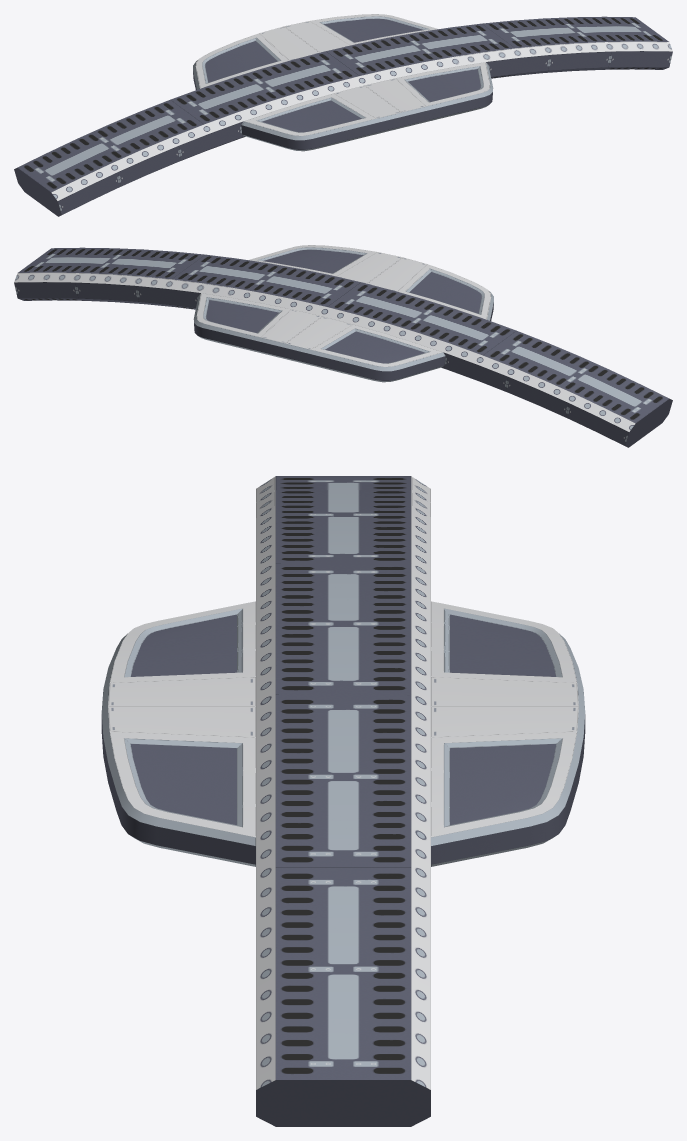
File: Stargate_Part_B.FBX
3 renders of one model, top to bottom at view 1: azimuth 30°, elevation 25°; view 2: azimuth 150°, elevation 25°; view 3: azimuth 270°, elevation 25°, orthographic. The views are drawn at different scales.
Parts seen in each view (by area): view 1: Stargate_Part_B; view 2: Stargate_Part_B; view 3: Stargate_Part_B.
Boxes of the visible parts, <box> form: Stargate_Part_B: <box>14,14,672,216</box>; Stargate_Part_B: <box>14,245,672,447</box>; Stargate_Part_B: <box>101,476,585,1126</box>.
Bounding box in the file's own units: 217 × 22.8 × 73.54.
4 materials, 4 textured.
